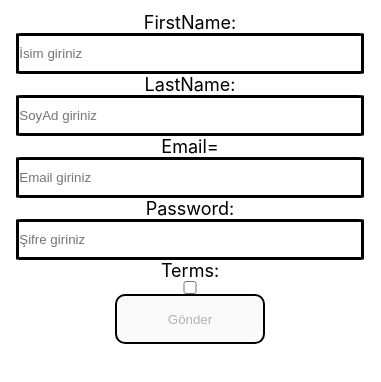
Form Tests › firstName doldurulumadığında gelen hata mesajı doğru mu?
In the field labelled "FirstName:": (190, 54) [16,33,364,74], type "Ihsan"
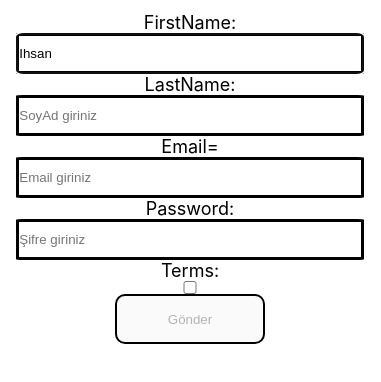
Clear the field labelled "FirstName:": (190, 54) [16,33,364,74]
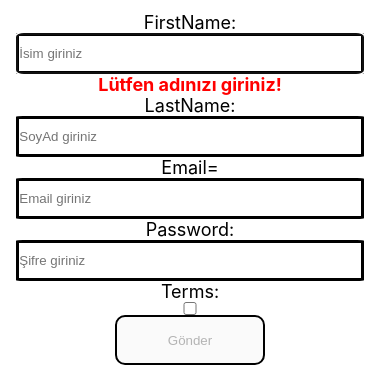
Expected: the text "Lütfen adınızı giriniz!" is shown, [98,74,282,95]
